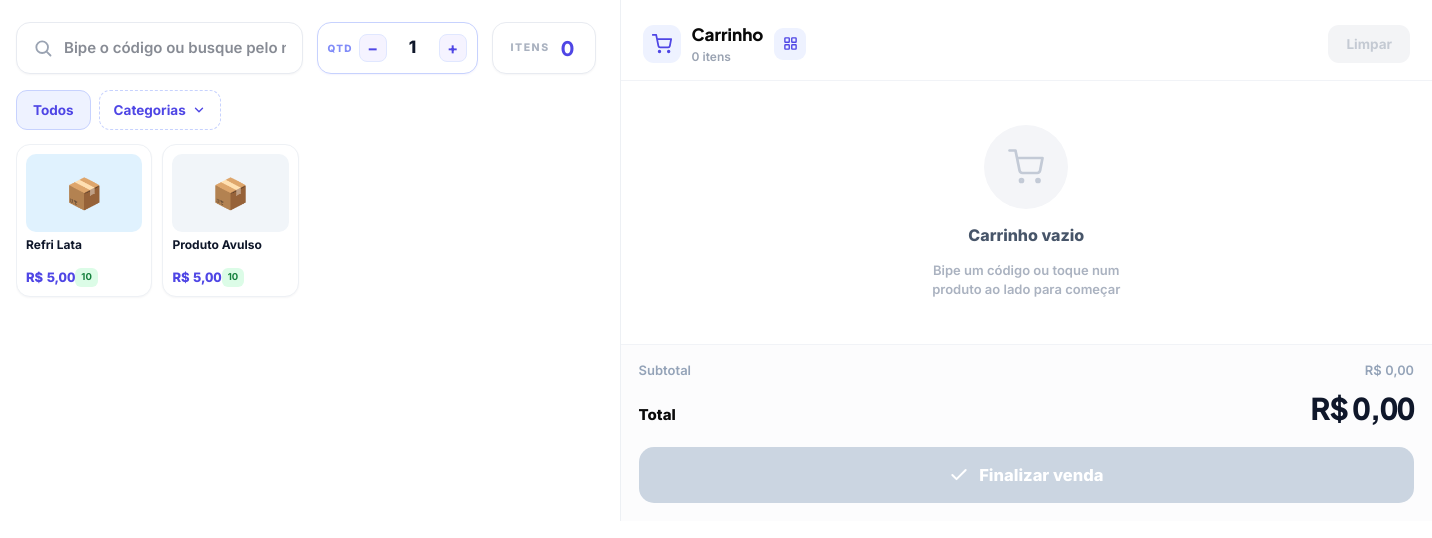
Test case: CashierScreen chips dinâmicos (RF07/RF08 — spec T08/T10) › T10 — chip 'Sem categoria' no FIM filtra exatamente os produtos com category null
Click the button with aria-label "Mostrar categorias": x=160, y=110 [99,90,221,130]
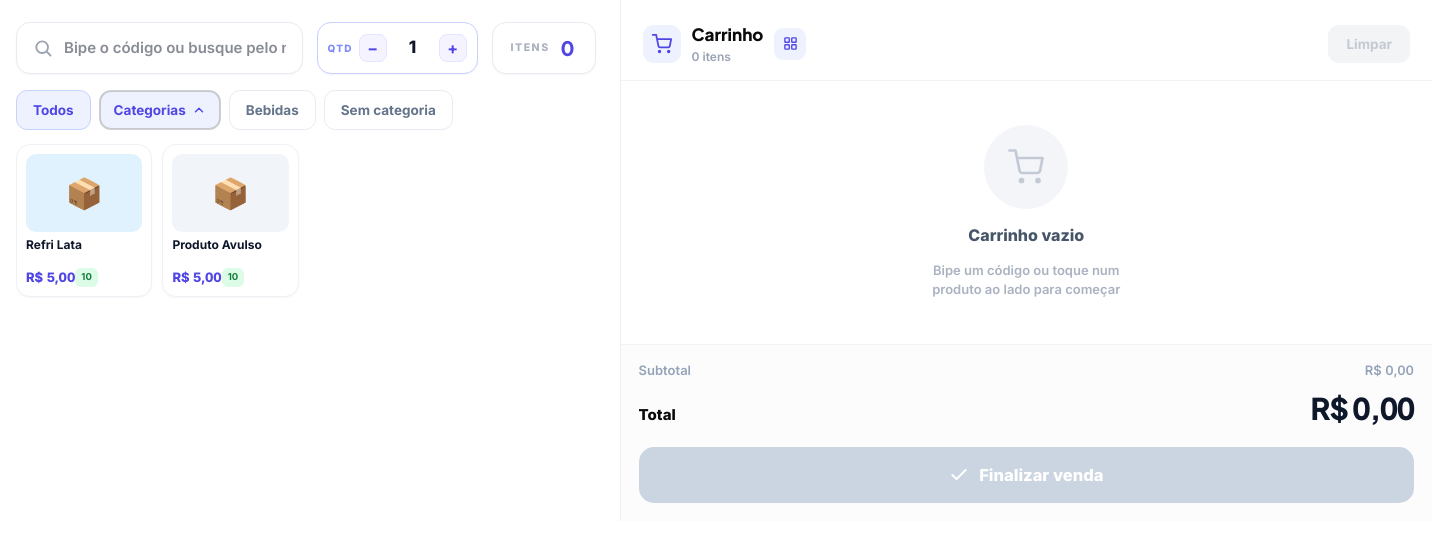
Expected: the button "Sem categoria" is shown
Click the button "Sem categoria": x=388, y=110 [324,90,453,130]
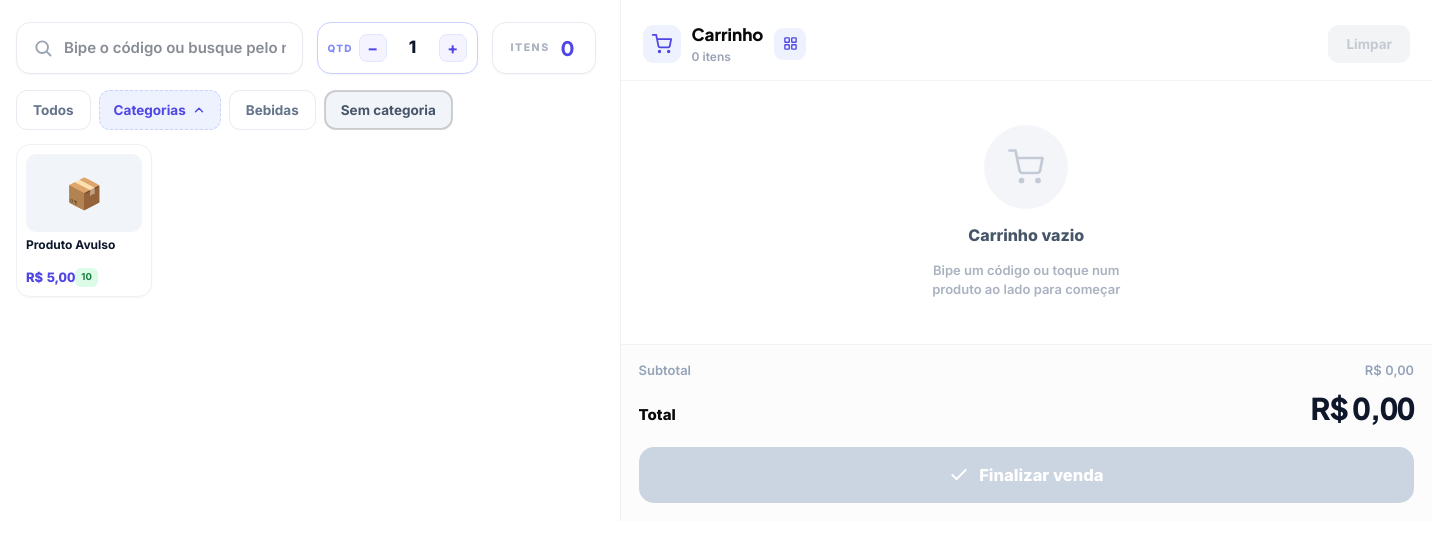
Expected: the text "Produto Avulso" is shown, [26,238,115,262]
Expected: the button "Refri Lata" is gone
